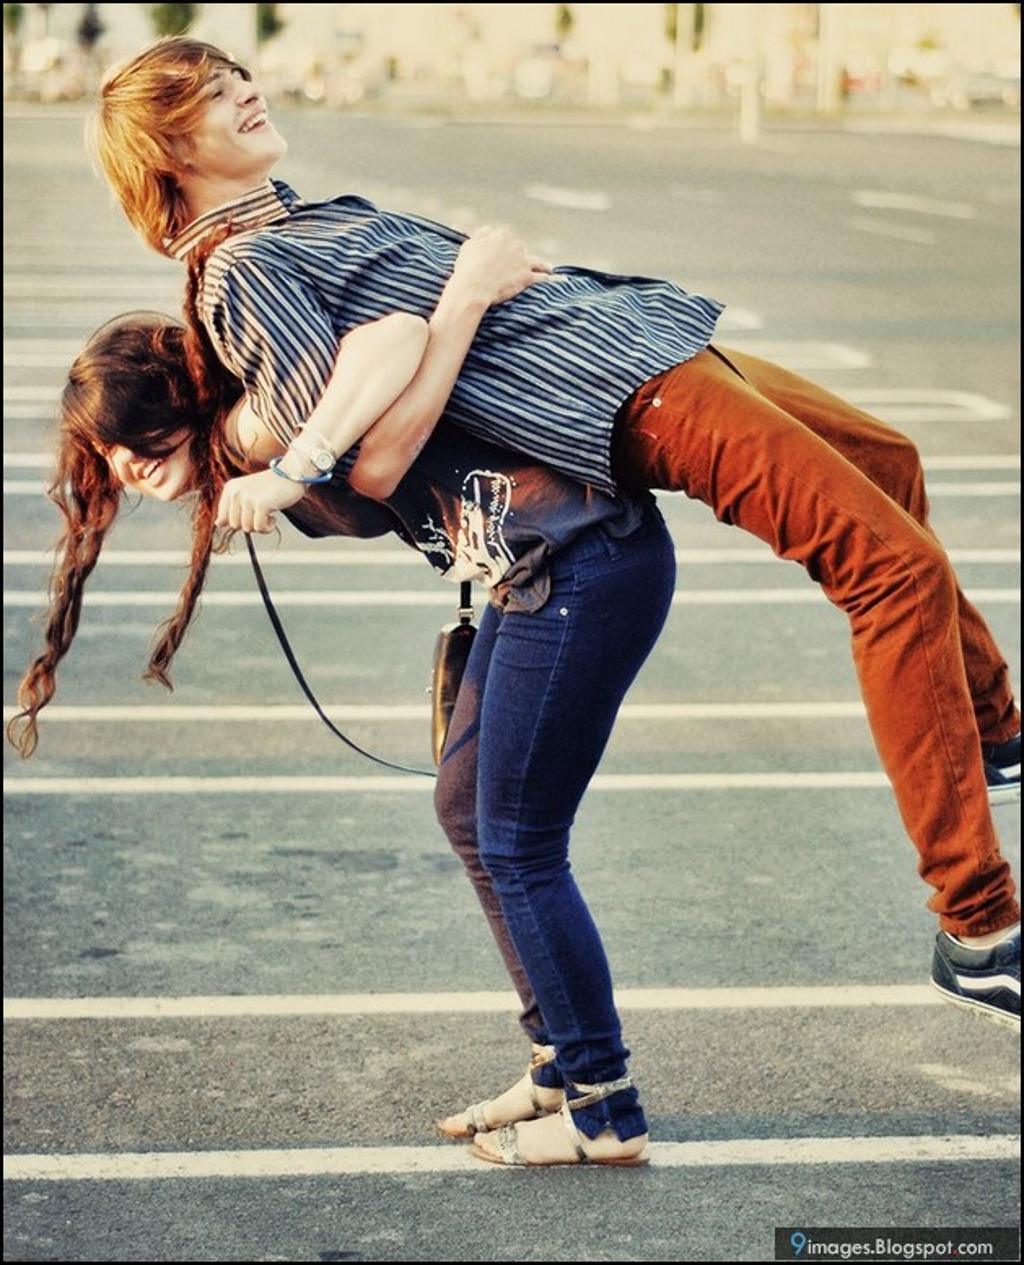face: (77, 393, 196, 502), (186, 42, 285, 163)
